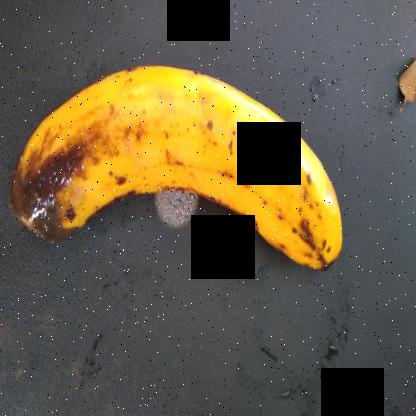overripe: (103, 42, 352, 296)
rotten: (2, 72, 140, 245)
